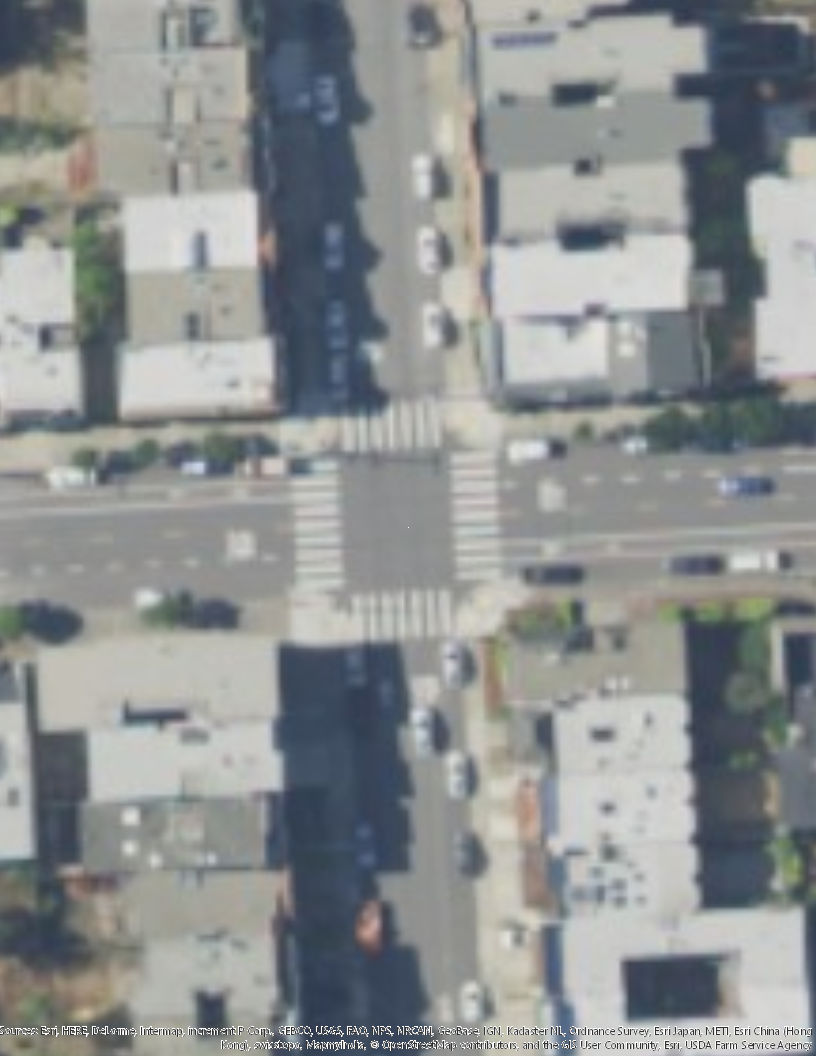zebracross: (292, 462, 346, 593), (453, 450, 500, 581), (345, 401, 440, 448), (362, 590, 451, 639)
